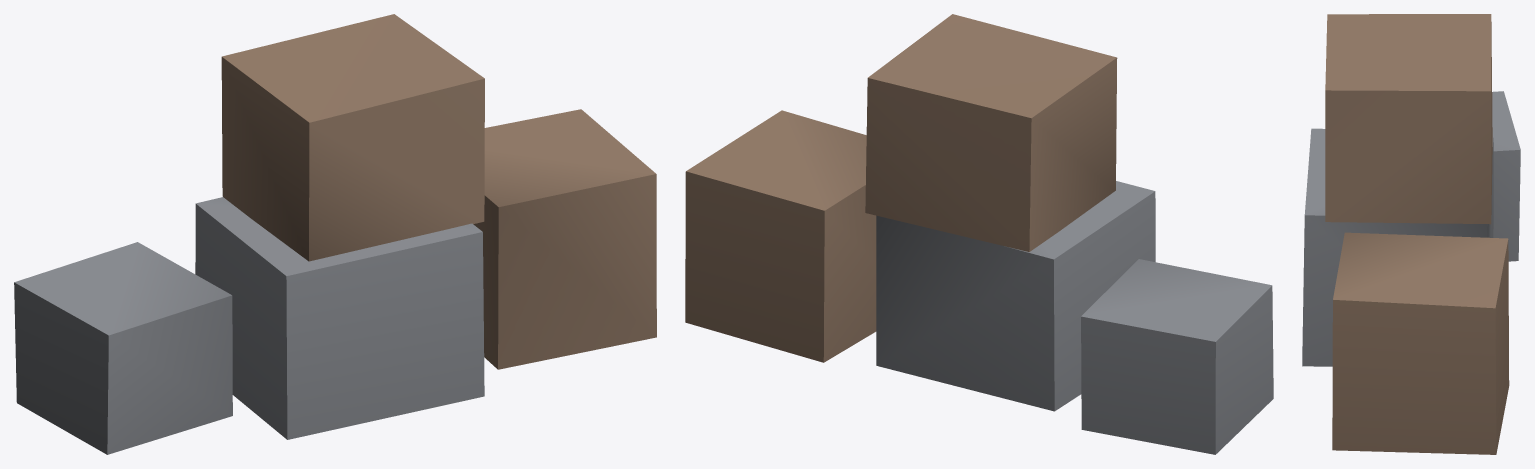
Rendered from hub_crates.glb.
The picture shows the model from 3 angles, left to right: view 1: azimuth 30°, elevation 25°; view 2: azimuth 150°, elevation 25°; view 3: azimuth 270°, elevation 25°; orthographic projection. The views are drawn at different scales.
Parts seen in each view (by area): view 1: hub_crates; view 2: hub_crates; view 3: hub_crates.
Boxes of the visible parts, bbox=[...] form: hub_crates: bbox=[14, 14, 656, 454]; hub_crates: bbox=[685, 14, 1273, 454]; hub_crates: bbox=[1302, 14, 1520, 454].
Bounding box in the file's own units: 2.92 × 1.51 × 1.07.
